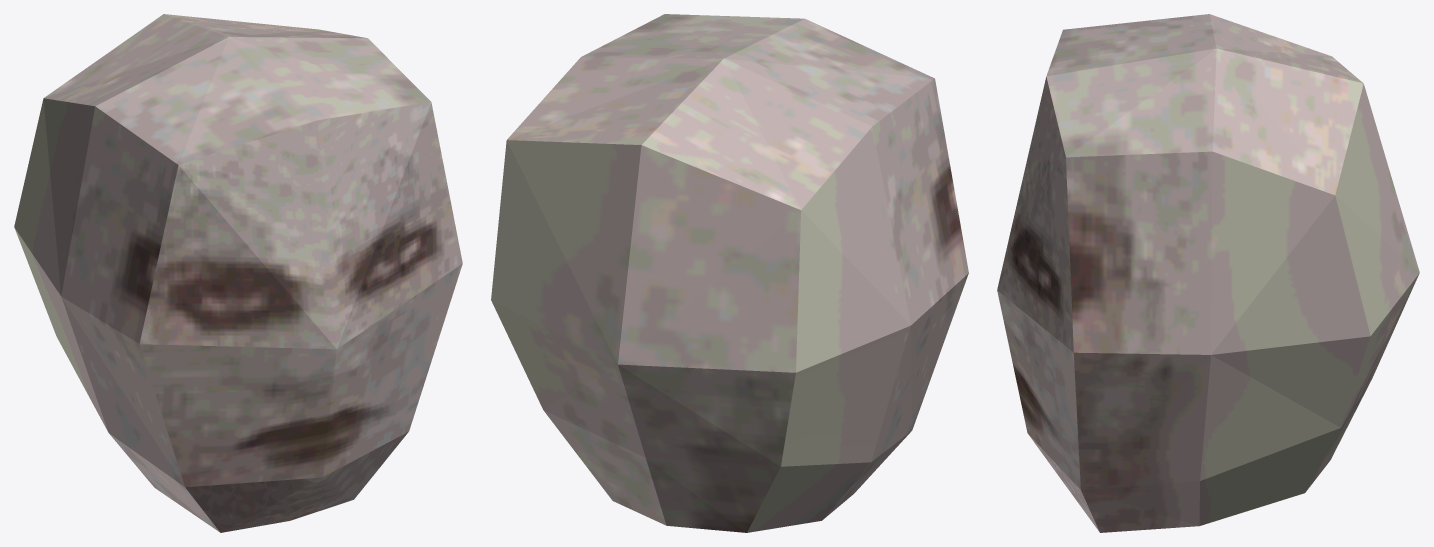
The model's file is PELADA_HEAD01.fbx.
The picture shows the model from 3 angles, left to right: view 1: azimuth 30°, elevation 25°; view 2: azimuth 150°, elevation 25°; view 3: azimuth 270°, elevation 25°; orthographic projection. The views are drawn at different scales.
Parts seen in each view (by area): view 1: Head; view 2: Head; view 3: Head.
Boxes of the visible parts, bbox=[...] form: Head: bbox=[14, 14, 462, 532]; Head: bbox=[491, 14, 968, 532]; Head: bbox=[997, 14, 1419, 532].
Bounding box in the file's own units: 13.77 × 16.8 × 14.21.
